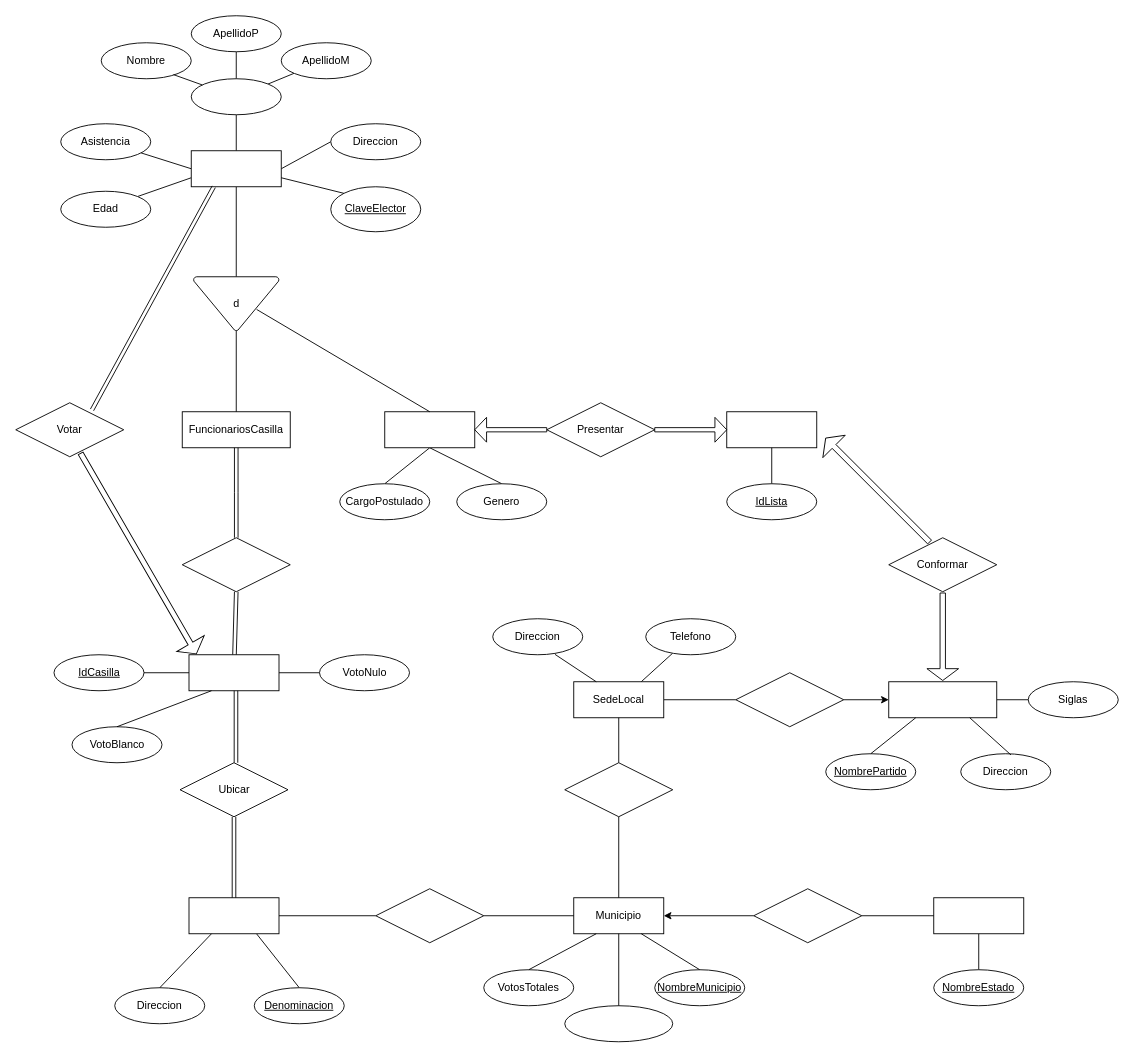
This 1134x1058 diagram has some shape labels left out. Here are the shapes that lost their labels. From the top down, the centre of each, then its label:
At point 235,96: "NombreCom".
At point 235,168: "Votante".
At point 429,429: "Candidato".
At point 771,429: "Lista".
At point 235,564: "Integrar".
At point 233,672: "Casilla".
At point 789,699: "Disponer".
At point 942,699: "PartidoPolitico".
At point 618,789: "Situar".
At point 233,915: "DistritoElectoral".
At point 429,915: "Pertenecer".
At point 807,915: "Exisitir".
At point 978,915: "Estado".
At point 618,1023: "CantidadPoblacion".
